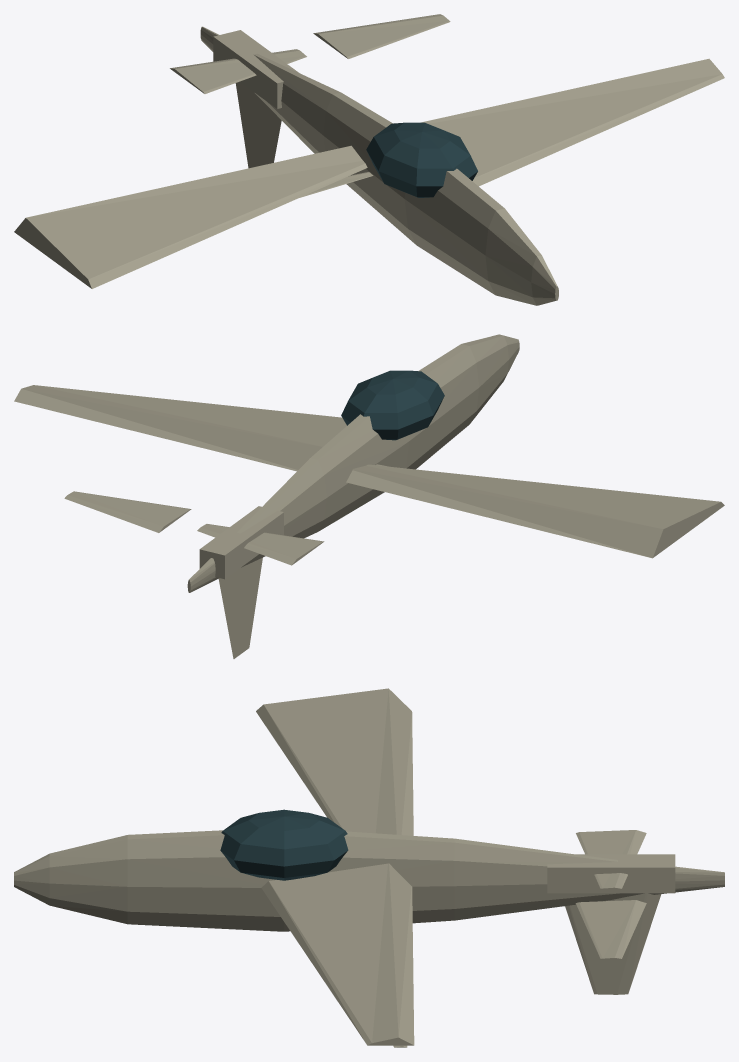
The picture shows the model from 3 angles, top to bottom: view 1: azimuth 30°, elevation 25°; view 2: azimuth 150°, elevation 25°; view 3: azimuth 270°, elevation 25°; orthographic projection. The views are drawn at different scales.
Visible parts, largest first — view 1: Fuselage, Wing_L, Wing_R, Cockpit, Elevator_R, TailBoom, Rudder, Elevator_L; view 2: Fuselage, Wing_L, Wing_R, Cockpit, TailBoom, Rudder, Elevator_R, Elevator_L; view 3: Fuselage, Wing_R, Wing_L, Cockpit, TailBoom, Rudder, Elevator_R, Elevator_L.
Boxes of the visible parts, x1,y1,x2,y2 form: Fuselage: (200,26,558,305); Wing_L: (14,145,367,288); Wing_R: (421,58,724,186); Cockpit: (366,122,477,197); Elevator_R: (313,14,450,58); TailBoom: (213,30,298,108); Rudder: (235,81,281,168); Elevator_L: (170,49,306,93); Fuselage: (187,334,519,592); Wing_L: (346,464,724,558); Wing_R: (14,385,346,471); Cockpit: (341,370,444,440); TailBoom: (199,506,283,579); Rudder: (218,557,262,658); Elevator_R: (64,491,191,532); Elevator_L: (197,524,324,565); Fuselage: (14,830,724,931); Wing_R: (261,863,414,1045); Wing_L: (256,688,413,835); Cockpit: (220,809,348,880); TailBoom: (547,854,675,893); Rudder: (565,893,661,994); Elevator_R: (575,900,646,958); Elevator_L: (576,830,646,888).
Bounding box in the file's own units: 10.08 × 2.48 × 9.
